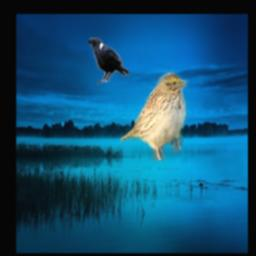Crow: (89, 38, 130, 86)
Sparrow: (119, 71, 189, 162)
